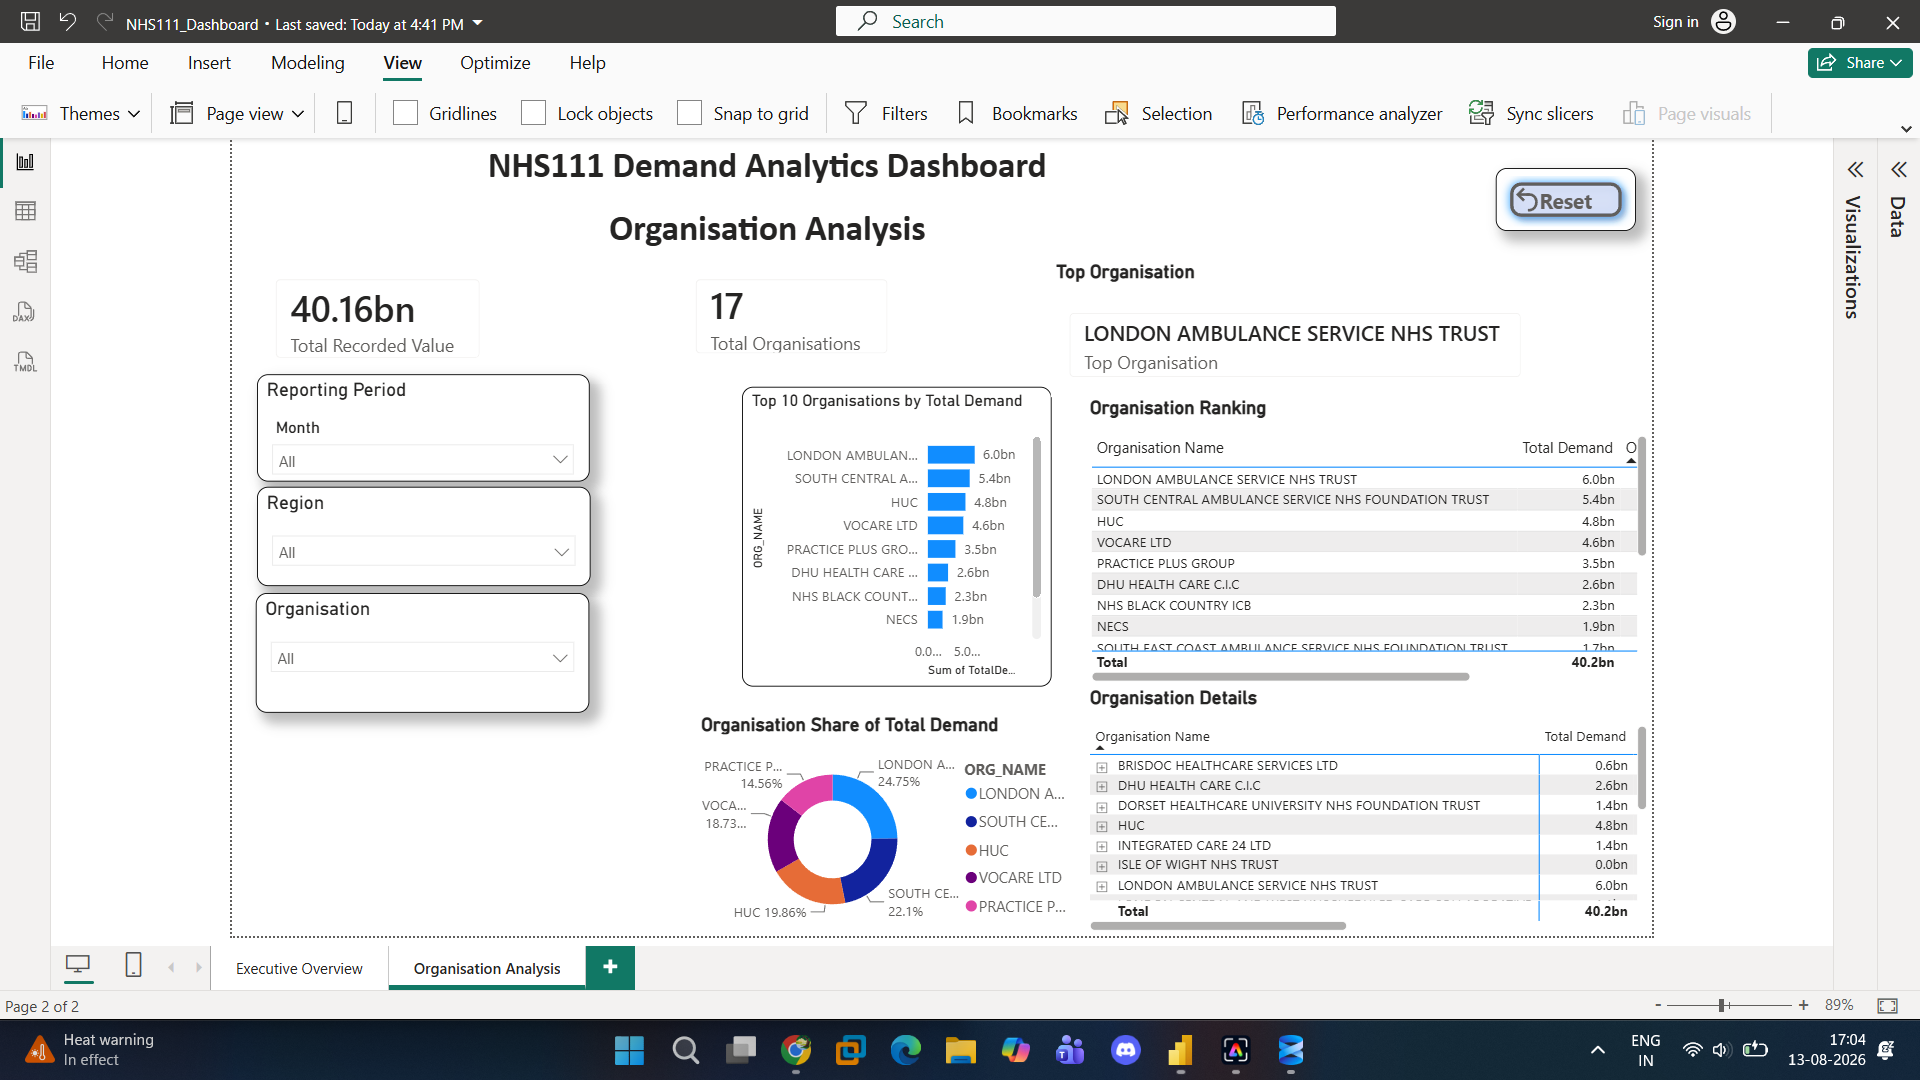

What the dashboard file says about the page in this screenshot:
{"tool":"powerbi","page":{"name":"Organisation Analysis","canvas":[1280,720],"ordinal":1},"visuals":[{"type":"textbox","box":[9.8,0,944.8,110.6],"z":0},{"type":"cardVisual","fields":{"Data":["Fact_IUCADC.Total Recorded Value"]},"box":[22.1,110.6,218.9,105.2],"z":1000},{"type":"cardVisual","fields":{"Data":["Fact_IUCADC.Total Organisations"]},"box":[401.8,110.6,207.9,101.5],"z":2000},{"type":"clusteredBarChart","title":"Top 10 Organisations by Total Demand","fields":{"Category":["vw_OrganisationDemand.ORG_NAME"],"Y":["Sum(vw_OrganisationDemand.TotalDemand)"]},"box":[459.5,224.8,278.9,270.3],"z":3000},{"type":"slicer","title":"Reporting Period","fields":{"Values":["vw_MonthlyDemand.Month"]},"box":[22.1,212.6,299.8,97.1],"z":4000},{"type":"slicer","title":"Region","fields":{"Values":["Fact_IUCADC.REGION_NAME"]},"box":[22.1,314.5,301,89.7],"z":5000},{"type":"slicer","title":"Organisation","fields":{"Values":["Fact_IUCADC.ORG_NAME"]},"box":[20.9,410.4,300.8,107.6],"z":6000},{"type":"actionButton","box":[1139.7,26.6,126.6,57],"z":7000},{"type":"tableEx","title":"Organisation Ranking","fields":{"Values":["Fact_IUCADC.ORG_NAME","Fact_IUCADC.Total Recorded Value","Fact_IUCADC.Organisation Rank","Fact_IUCADC.Organisation Share %"]},"box":[768.2,233.9,512.1,262],"z":8000},{"type":"donutChart","title":"Organisation Share of Total Demand","fields":{"Category":["Fact_IUCADC.ORG_NAME"],"Y":["Fact_IUCADC.Organisation Share %"]},"box":[417.7,518.5,350.2,197.8],"z":9000},{"type":"cardVisual","title":"Top Organisation","fields":{"Data":["Fact_IUCADC.Top Organisation"]},"box":[738.6,111,441.1,122.8],"z":10000},{"type":"pivotTable","title":"Organisation Details","fields":{"Rows":["Fact_IUCADC.ORG_NAME","Fact_IUCADC.REGION_NAME"],"Values":["Fact_IUCADC.Total Recorded Value","Fact_IUCADC.Organisation Share %"]},"box":[768.2,494.4,512.3,224.8],"z":11000}]}

Visuals, with their boxes on the page's 1280x720 design canvas (x1, y1, x2, y2). These are canvas units, not pixel positions in the 1920x1080 screenshot, which may show the page scaled, cropped or inside an application window:
textbox: (x1=10, y1=0, x2=955, y2=111)
cardVisual - Fact_IUCADC.Total Recorded Value: (x1=22, y1=111, x2=241, y2=216)
cardVisual - Fact_IUCADC.Total Organisations: (x1=402, y1=111, x2=610, y2=212)
"Top 10 Organisations by Total Demand" clusteredBarChart: (x1=460, y1=225, x2=738, y2=495)
"Reporting Period" slicer: (x1=22, y1=213, x2=322, y2=310)
"Region" slicer: (x1=22, y1=314, x2=323, y2=404)
"Organisation" slicer: (x1=21, y1=410, x2=322, y2=518)
actionButton: (x1=1140, y1=27, x2=1266, y2=84)
"Organisation Ranking" tableEx: (x1=768, y1=234, x2=1280, y2=496)
"Organisation Share of Total Demand" donutChart: (x1=418, y1=518, x2=768, y2=716)
"Top Organisation" cardVisual: (x1=739, y1=111, x2=1180, y2=234)
"Organisation Details" pivotTable: (x1=768, y1=494, x2=1280, y2=719)
